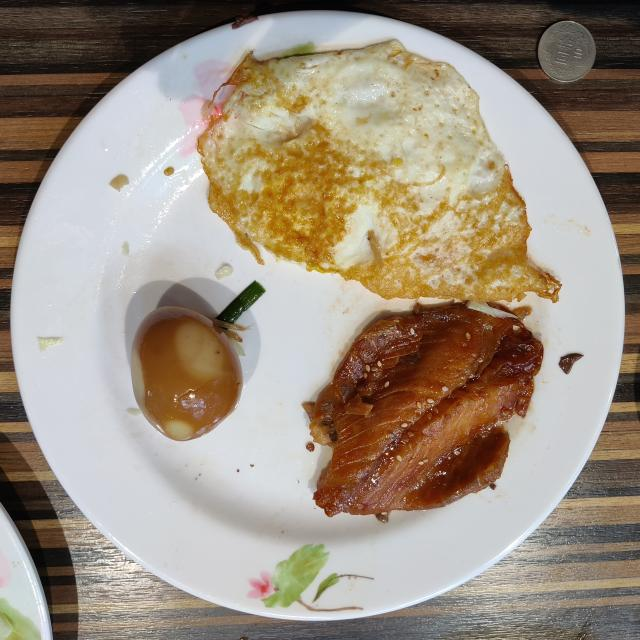Kabayaki sea bream fillet: (310, 304, 542, 516)
coin: (538, 21, 596, 82)
soy egg: (131, 306, 242, 441)
